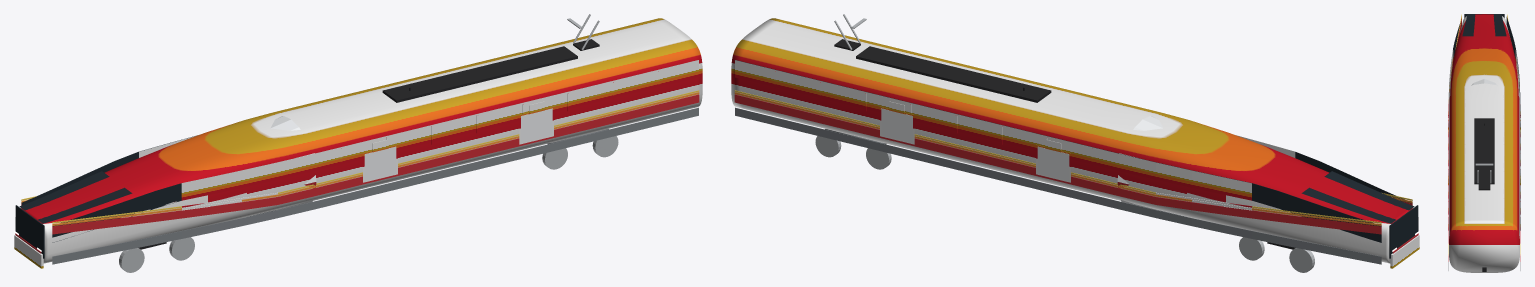
The model's file is cr400af-bs-head-lod-v010.glb.
The picture shows the model from 3 angles, left to right: view 1: azimuth 30°, elevation 25°; view 2: azimuth 150°, elevation 25°; view 3: azimuth 270°, elevation 25°; orthographic projection. The views are drawn at different scales.
Visible parts, largest first — view 1: GEO-headcar-lod, GEO-door_-1_-0.6, GEO-door_-1_5.6, GEO-nose_fairing; view 2: GEO-headcar-lod, GEO-door_1_-0.6, GEO-door_1_5.6, GEO-nose_fairing; view 3: GEO-headcar-lod, GEO-nose_fairing.
Boxes of the visible parts, left/top/right/bottom form: GEO-headcar-lod: left=14, top=14, right=702, bottom=272; GEO-door_-1_-0.6: left=364, top=146, right=396, bottom=180; GEO-door_-1_5.6: left=521, top=108, right=552, bottom=142; GEO-nose_fairing: left=250, top=116, right=316, bottom=216; GEO-headcar-lod: left=731, top=14, right=1419, bottom=272; GEO-door_1_-0.6: left=1037, top=146, right=1069, bottom=180; GEO-door_1_5.6: left=881, top=108, right=912, bottom=142; GEO-nose_fairing: left=1117, top=116, right=1183, bottom=216; GEO-headcar-lod: left=1448, top=14, right=1520, bottom=272; GEO-nose_fairing: left=1448, top=79, right=1520, bottom=115.
Size of the model in its own units: 25.95 by 4.84 by 3.44.
Materials: 11 (1 with a texture image).
